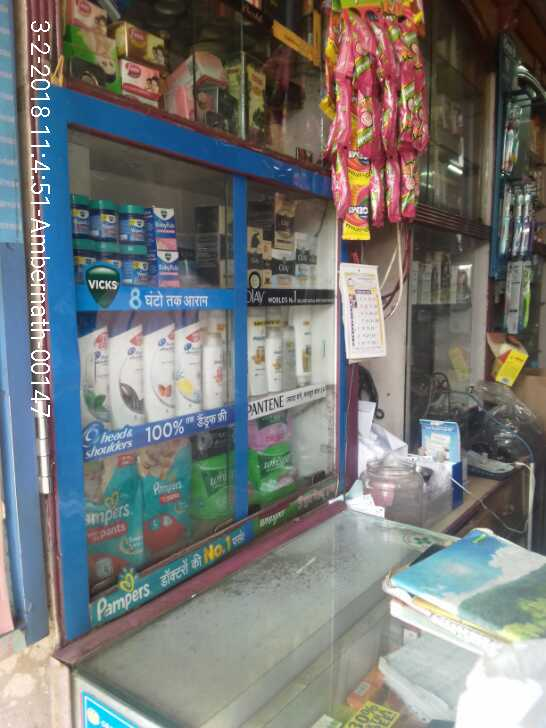oralcare: (497, 27, 544, 340)
vicks: (68, 190, 196, 294)
